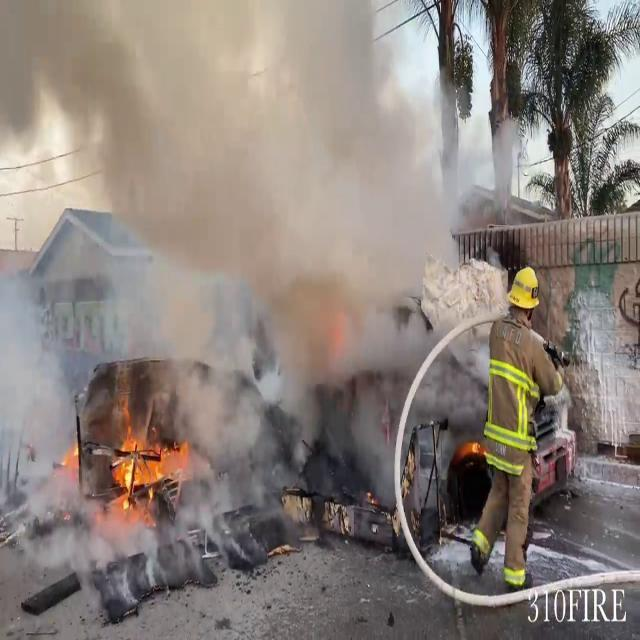Fire: (106, 406, 190, 522)
Smoke: (0, 0, 494, 546)
